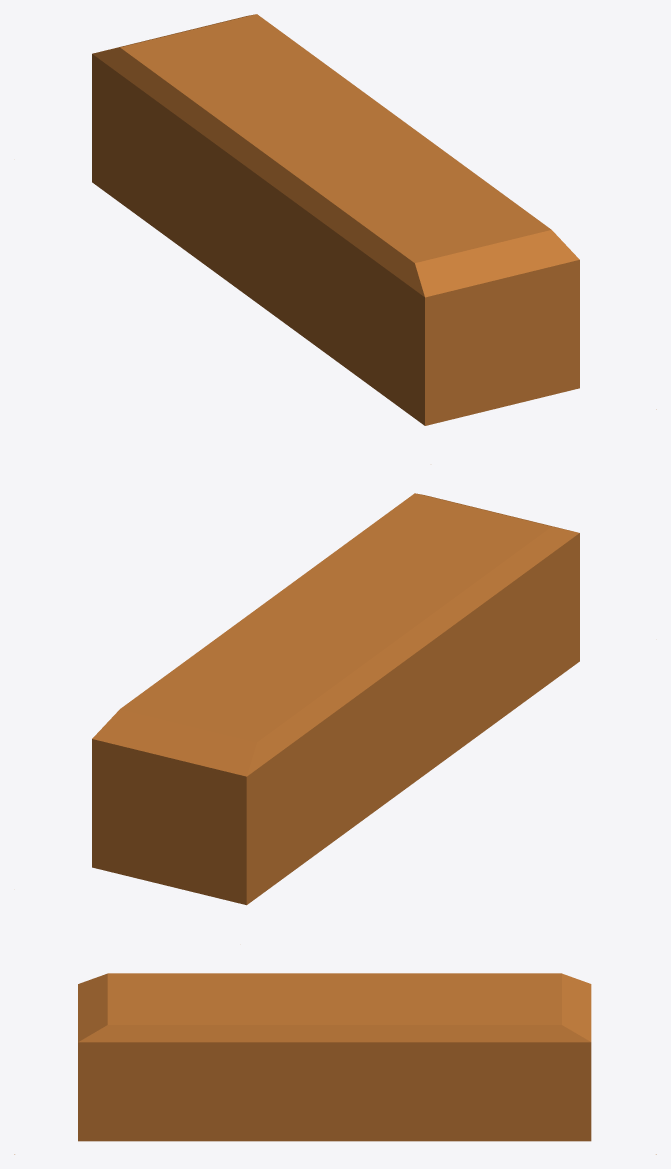
File: copper_ingot_large.glb
3 renders of one model, top to bottom at view 1: azimuth 30°, elevation 25°; view 2: azimuth 150°, elevation 25°; view 3: azimuth 270°, elevation 25°, orthographic. The views are drawn at different scales.
Parts seen in each view (by area): view 1: copper_ingot_large; view 2: copper_ingot_large; view 3: copper_ingot_large.
Part boxes in pixels (bbox=[...]): copper_ingot_large: bbox=[92, 14, 656, 425]; copper_ingot_large: bbox=[92, 493, 579, 905]; copper_ingot_large: bbox=[14, 973, 656, 1154].
Bounding box in the file's own units: 0.1454 × 0.0903 × 0.4653.
